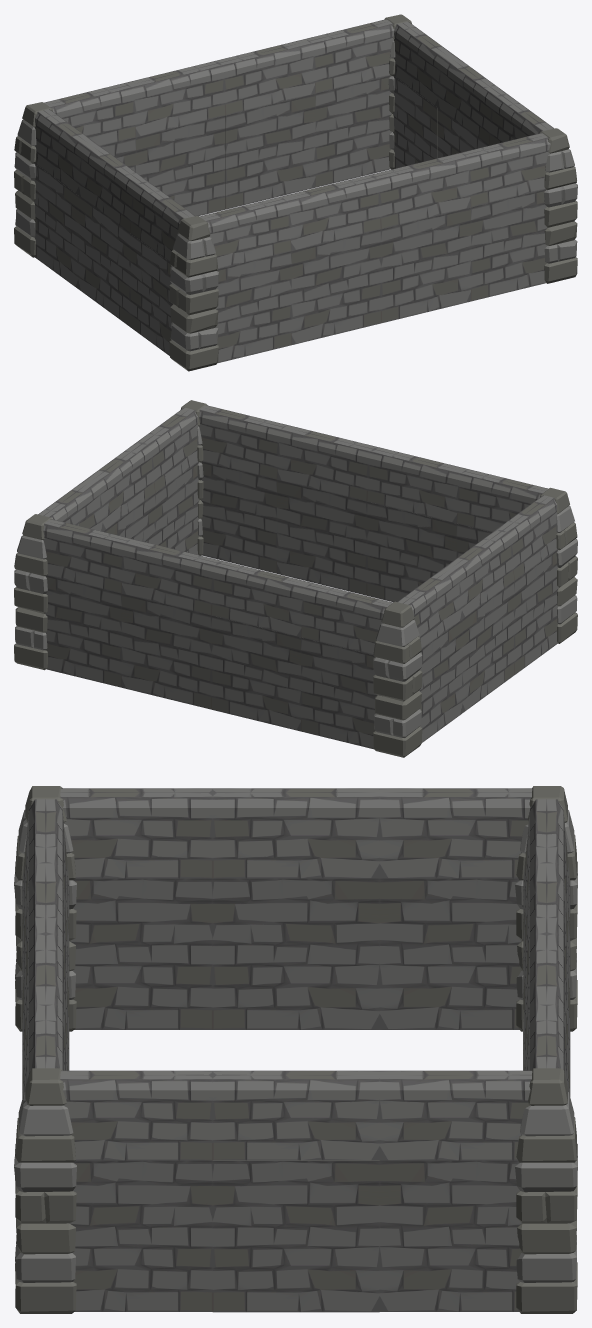
File: SM_Bld_Preset_Tavern_01_Base_Optimized.glb
The picture shows the model from 3 angles, top to bottom: view 1: azimuth 30°, elevation 25°; view 2: azimuth 150°, elevation 25°; view 3: azimuth 270°, elevation 25°; orthographic projection. The views are drawn at different scales.
Parts seen in each view (by area): view 1: SM_Bld_Preset_Tavern_01_Base_Optimized; view 2: SM_Bld_Preset_Tavern_01_Base_Optimized; view 3: SM_Bld_Preset_Tavern_01_Base_Optimized.
Boxes of the visible parts, box(x1,y1,x2,y2) form: SM_Bld_Preset_Tavern_01_Base_Optimized: box(14, 14, 577, 371); SM_Bld_Preset_Tavern_01_Base_Optimized: box(14, 400, 577, 757); SM_Bld_Preset_Tavern_01_Base_Optimized: box(14, 786, 577, 1313).
Size of the model in its own units: 10.94 by 3.78 by 8.44.
Materials: 1 (1 with a texture image).
